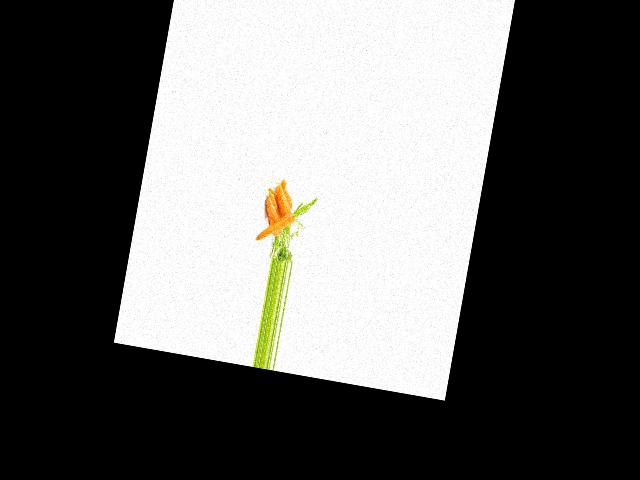carrot: (260, 190, 287, 238)
